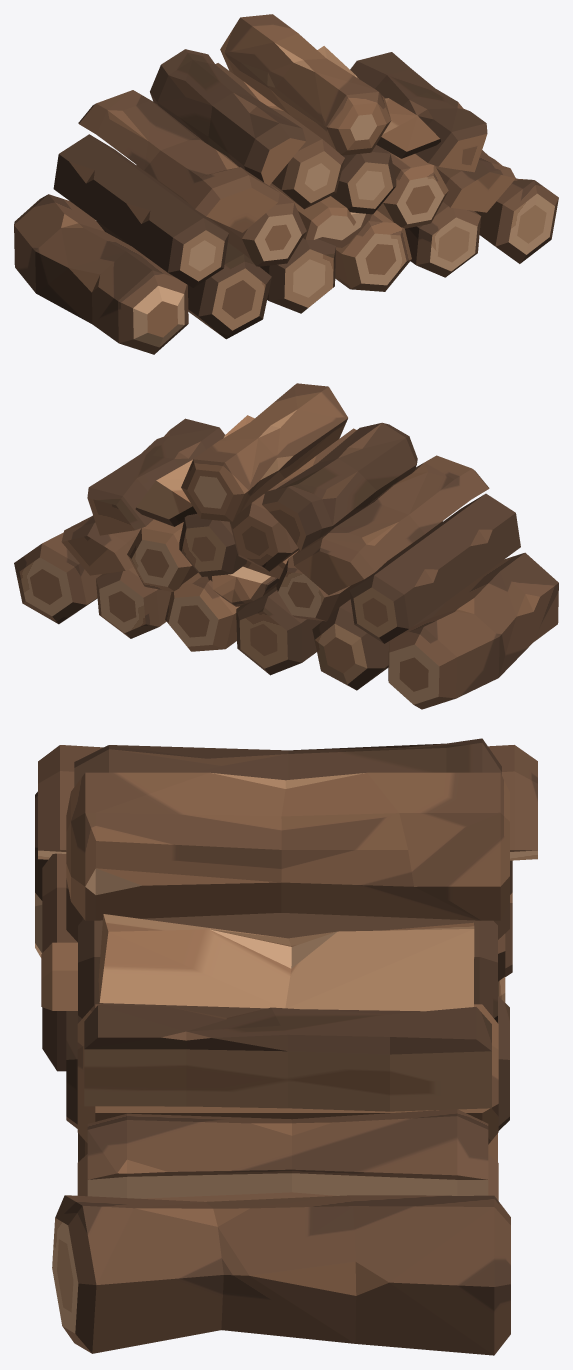
File: alp_Prop_Wood_Pile_01.glb
The picture shows the model from 3 angles, top to bottom: view 1: azimuth 30°, elevation 25°; view 2: azimuth 150°, elevation 25°; view 3: azimuth 270°, elevation 25°; orthographic projection. The views are drawn at different scales.
Visible parts, largest first — view 1: SM_Prop_Wood_Pile_01; view 2: SM_Prop_Wood_Pile_01; view 3: SM_Prop_Wood_Pile_01.
Boxes of the visible parts, x1,y1,x2,y2 form: SM_Prop_Wood_Pile_01: (14, 14, 558, 354); SM_Prop_Wood_Pile_01: (14, 383, 558, 709); SM_Prop_Wood_Pile_01: (35, 738, 537, 1355).
Bounding box in the file's own units: 1.41 × 0.6137 × 0.6825.
Materials: 1 (1 with a texture image).
